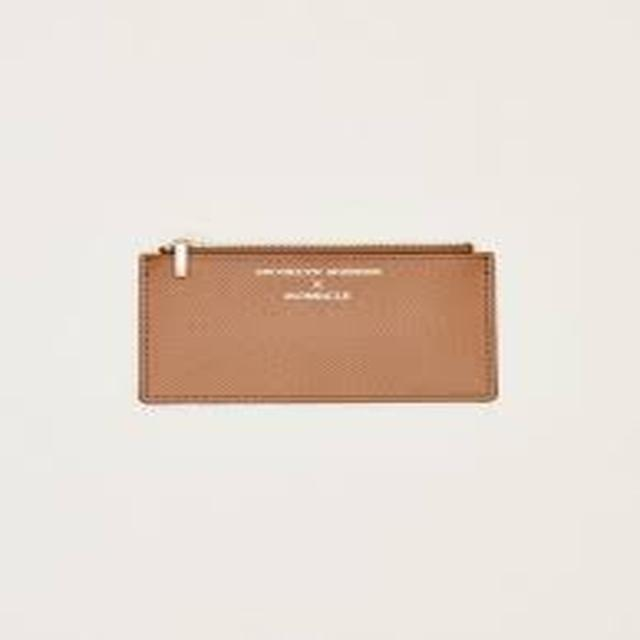wallet: (99, 214, 560, 425)
